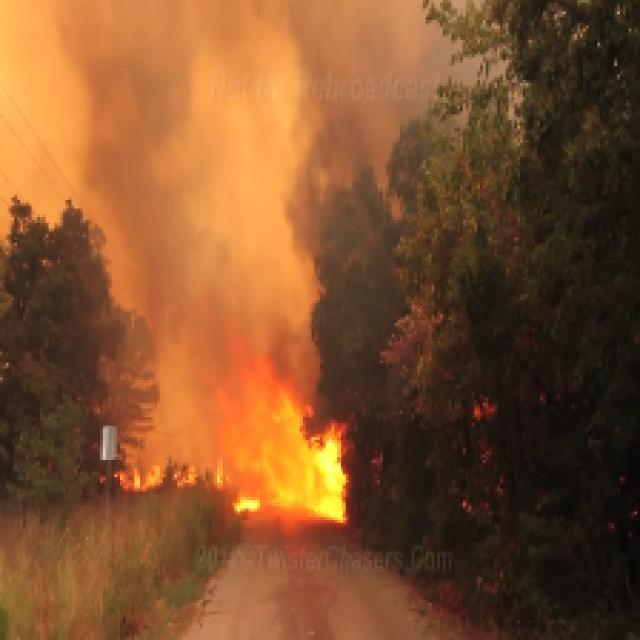Fire: (206, 357, 351, 523)
Smoke: (111, 91, 312, 352)
